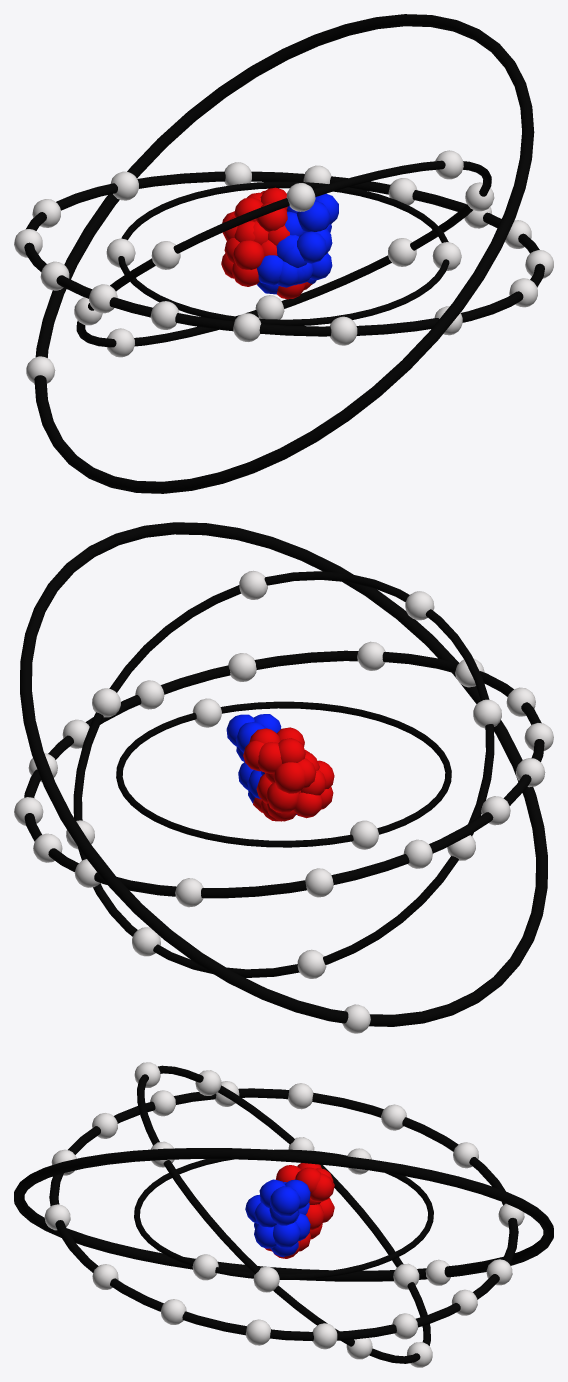
File: 28 Niquel.fbx
3 renders of one model, top to bottom at view 1: azimuth 30°, elevation 25°; view 2: azimuth 150°, elevation 25°; view 3: azimuth 270°, elevation 25°, orthographic. The views are drawn at different scales.
Parts seen in each view (by area): view 1: Orbita.004, Orbita.003, Orbita.002, Orbita.001, Neutron.006, Neutron.001, Sphere.029, Sphere.013, Electron.010, Electron.017, Electron.019, Electron.002 (+13 smaller); view 2: Orbita.004, Orbita.002, Orbita.003, Orbita.001, Neutron.006, Neutron.002, Neutron.005, Electron.013, Electron.004, Electron.007, Electron, Electron.008 (+12 smaller); view 3: Orbita.004, Orbita.003, Orbita.002, Orbita.001, Neutron.006, Neutron.003, Neutron.002, Electron.004, Electron.012, Electron, Electron.015, Electron.025 (+20 smaller).
Boxes of the visible parts, x1,y1,x2,y2 form: Orbita.004: [34, 14, 534, 493]; Orbita.003: [24, 171, 544, 336]; Orbita.002: [76, 160, 491, 347]; Orbita.001: [118, 181, 449, 325]; Neutron.006: [287, 193, 338, 232]; Neutron.001: [257, 255, 283, 294]; Sphere.029: [297, 231, 326, 263]; Sphere.013: [232, 240, 264, 269]; Electron.010: [286, 183, 315, 211]; Electron.017: [330, 316, 357, 345]; Electron.019: [233, 313, 261, 341]; Electron.002: [151, 241, 180, 269]; Orbita.004: [20, 522, 547, 1026]; Orbita.002: [73, 571, 494, 977]; Orbita.003: [24, 650, 544, 898]; Orbita.001: [116, 701, 451, 847]; Neutron.006: [226, 714, 281, 762]; Neutron.002: [256, 774, 298, 821]; Neutron.005: [264, 751, 319, 793]; Electron.013: [305, 868, 333, 897]; Electron.004: [92, 688, 120, 717]; Electron.007: [297, 949, 326, 978]; Electron: [192, 698, 221, 727]; Electron.008: [239, 570, 267, 599]; Orbita.004: [14, 1148, 553, 1281]; Orbita.003: [49, 1088, 518, 1341]; Orbita.002: [137, 1065, 430, 1363]; Orbita.001: [134, 1149, 433, 1279]; Neutron.006: [259, 1179, 310, 1225]; Neutron.003: [270, 1213, 310, 1257]; Neutron.002: [306, 1198, 334, 1239]; Electron.004: [253, 1266, 279, 1292]; Electron.012: [288, 1083, 313, 1109]; Electron: [192, 1254, 218, 1280]; Electron.015: [245, 1319, 270, 1345]; Electron.025: [312, 1323, 337, 1349].
Size of the model in its own units: 13.94 by 12.45 by 8.72.
